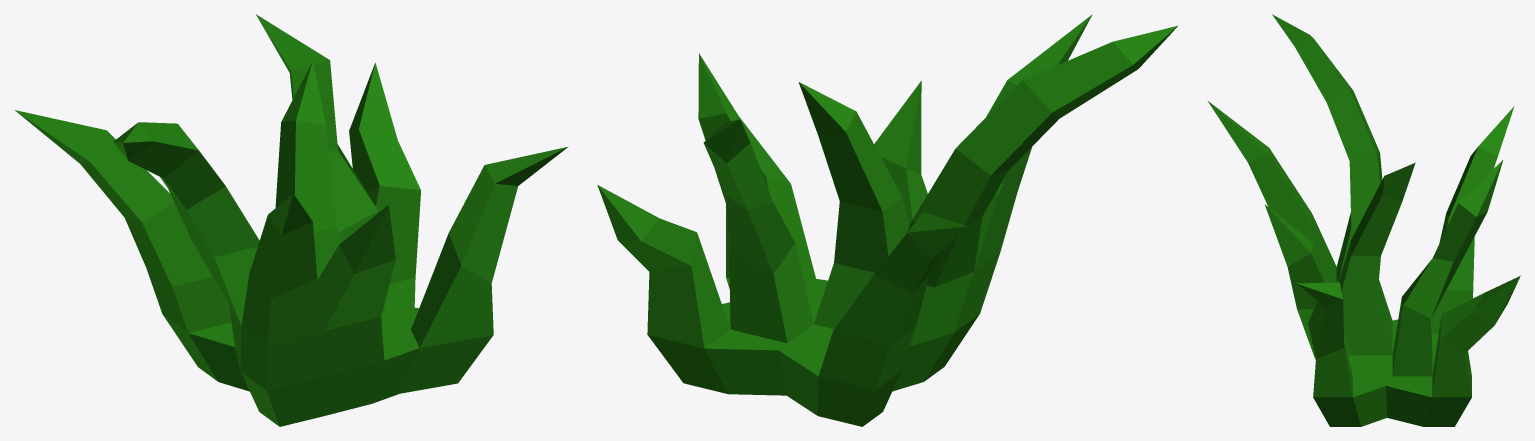
Rendered from Grass.FBX.
The picture shows the model from 3 angles, left to right: view 1: azimuth 30°, elevation 25°; view 2: azimuth 150°, elevation 25°; view 3: azimuth 270°, elevation 25°; orthographic projection. The views are drawn at different scales.
Parts seen in each view (by area): view 1: Grass; view 2: Grass; view 3: Grass.
Boxes of the visible parts, x1,y1,x2,y2 form: Grass: (15,14,568,426); Grass: (597,14,1177,426); Grass: (1208,14,1520,426).
Size of the model in its own units: 37.69 by 28.04 by 29.08.
